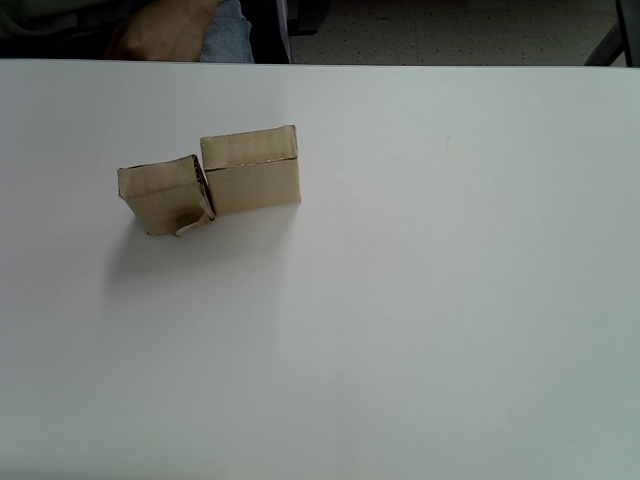defect: (117, 155, 213, 239)
normal: (200, 125, 304, 217)
